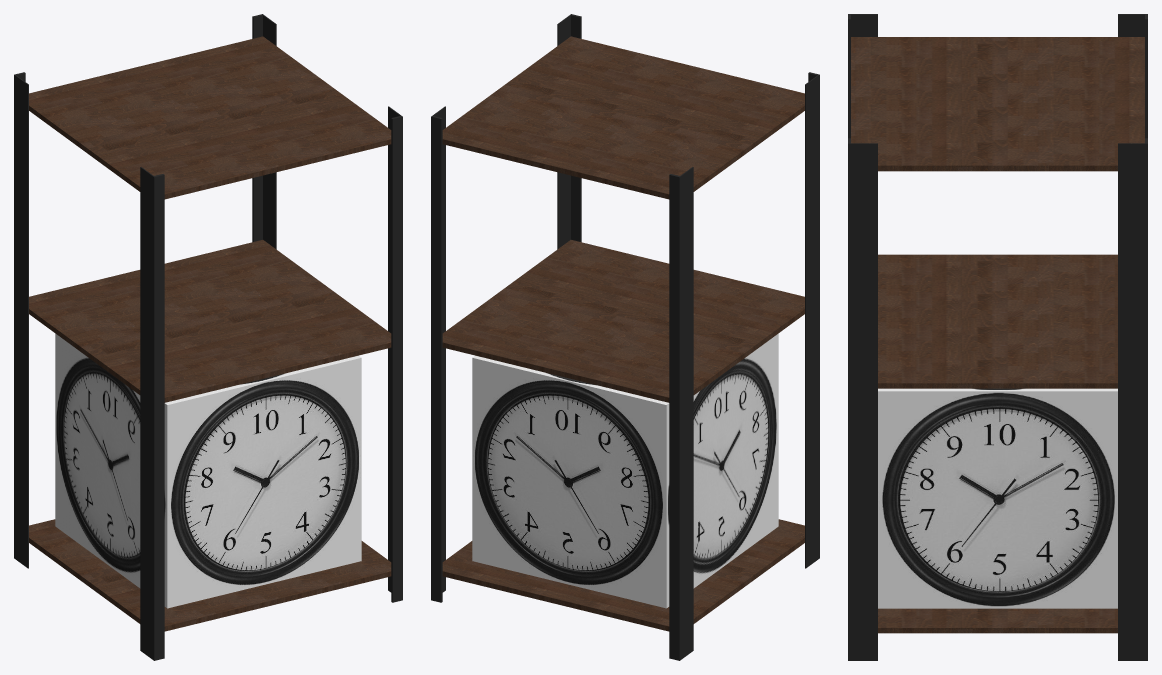
Rendered from small_rack_clock.dae.
3 renders of one model, left to right at view 1: azimuth 30°, elevation 25°; view 2: azimuth 150°, elevation 25°; view 3: azimuth 270°, elevation 25°, orthographic. The views are drawn at different scales.
Visible parts, largest first — view 1: Cube.001, Family2 Family2 [5175].001, Family2 Family2 [5175].002, Extrusion [3348], Family2 Family2 [5175]; view 2: Cube.001, Family2 Family2 [5175].001, Family2 Family2 [5175].002, Extrusion [3348], Family2 Family2 [5175]; view 3: Cube.001, Family2 Family2 [5175].001, Extrusion [3348], Family2 Family2 [5175].002, Family2 Family2 [5175].
Part boxes in pixels (<box>): Cube.001: <box>55,333,361,608</box>; Family2 Family2 [5175].001: <box>29,36,391,199</box>; Family2 Family2 [5175].002: <box>29,240,391,402</box>; Extrusion [3348]: <box>14,14,402,660</box>; Family2 Family2 [5175]: <box>29,519,391,631</box>; Cube.001: <box>472,333,778,608</box>; Family2 Family2 [5175].001: <box>442,36,804,199</box>; Family2 Family2 [5175].002: <box>442,240,804,402</box>; Extrusion [3348]: <box>431,14,819,660</box>; Family2 Family2 [5175]: <box>442,519,804,631</box>; Cube.001: <box>878,388,1117,608</box>; Family2 Family2 [5175].001: <box>851,37,1144,171</box>; Extrusion [3348]: <box>848,14,1147,660</box>; Family2 Family2 [5175].002: <box>878,254,1117,388</box>; Family2 Family2 [5175]: <box>878,608,1117,633</box>.
Bounding box in the file's own units: 0.5118 × 0.5 × 0.9514.
Materials: 3 (2 with a texture image).
